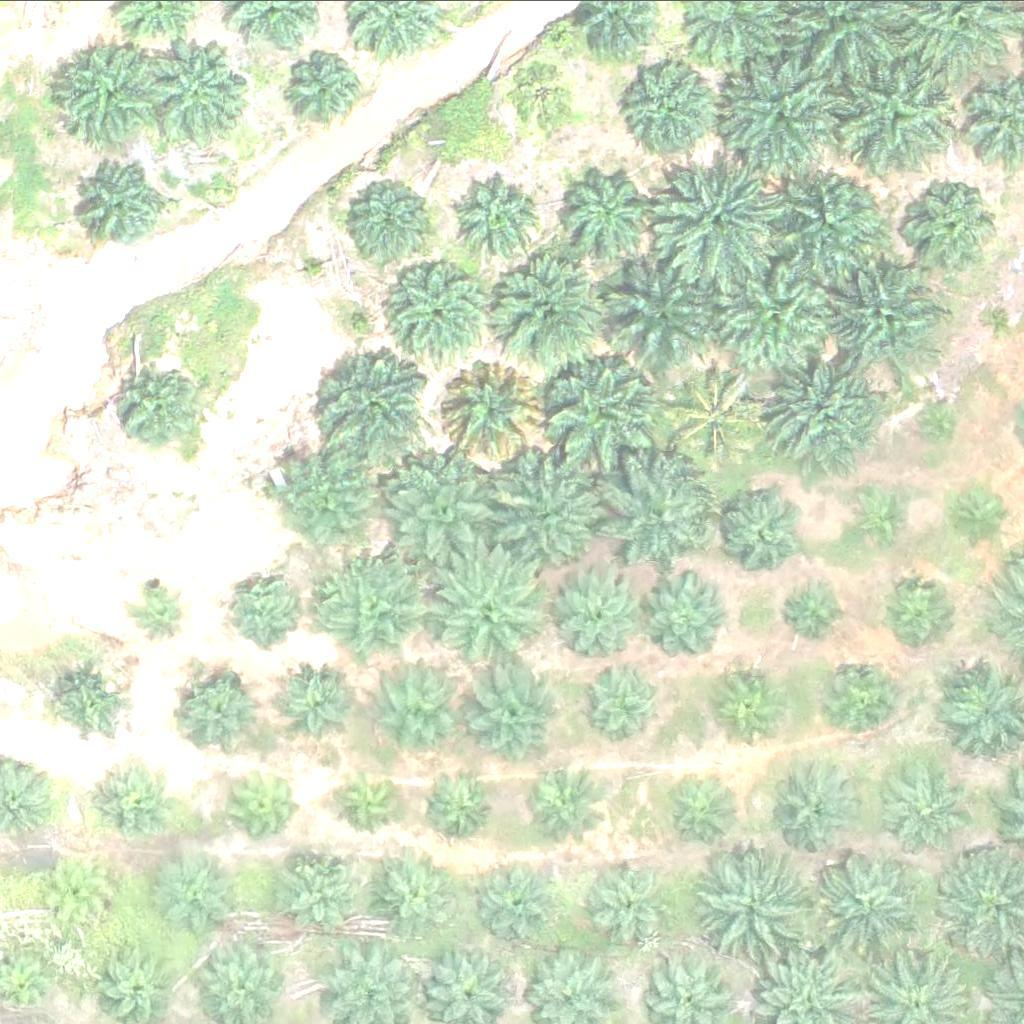Kelapa_Sawit: (421, 546, 547, 671), (694, 842, 820, 967), (306, 343, 432, 468), (540, 349, 666, 474), (487, 446, 613, 571), (593, 449, 719, 574), (482, 247, 608, 372), (713, 251, 839, 376), (760, 344, 886, 469), (656, 163, 782, 288), (775, 154, 901, 279), (720, 58, 846, 183), (835, 56, 961, 181), (819, 258, 945, 383), (386, 454, 511, 579), (598, 248, 723, 373), (654, 360, 768, 473), (435, 353, 548, 466), (269, 442, 383, 554), (385, 253, 499, 365), (321, 552, 434, 664), (546, 557, 647, 657), (148, 39, 249, 139), (55, 43, 156, 143), (550, 164, 651, 264), (625, 61, 726, 161), (902, 175, 1003, 275), (817, 862, 917, 962), (377, 665, 477, 765), (182, 663, 270, 751), (879, 765, 967, 853), (640, 571, 728, 659), (375, 851, 463, 939), (592, 854, 680, 942), (80, 160, 168, 248), (279, 660, 367, 747), (121, 362, 209, 449), (280, 43, 368, 130), (467, 669, 555, 756), (283, 853, 371, 940), (477, 861, 565, 948), (772, 766, 860, 853), (720, 492, 808, 579), (450, 169, 538, 256), (345, 174, 433, 261), (57, 668, 133, 743), (532, 765, 608, 840), (421, 770, 497, 845), (333, 764, 409, 839), (220, 566, 296, 641), (824, 665, 900, 740), (503, 55, 579, 130), (164, 854, 239, 929), (91, 767, 166, 842), (224, 761, 299, 836), (668, 768, 743, 843), (708, 668, 783, 743), (588, 659, 663, 734), (882, 577, 957, 652), (855, 486, 918, 549), (48, 862, 111, 925), (129, 574, 192, 636), (778, 580, 841, 642), (951, 481, 1013, 544), (911, 400, 961, 450), (973, 299, 1011, 336)
